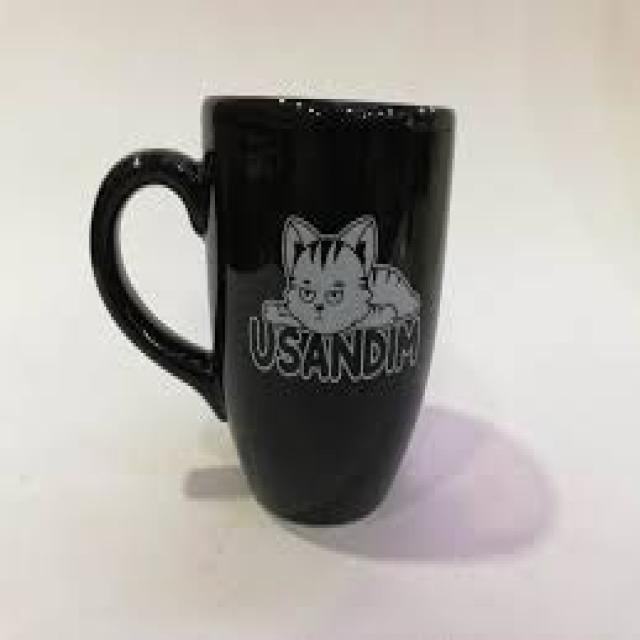taza: (87, 92, 457, 526)
